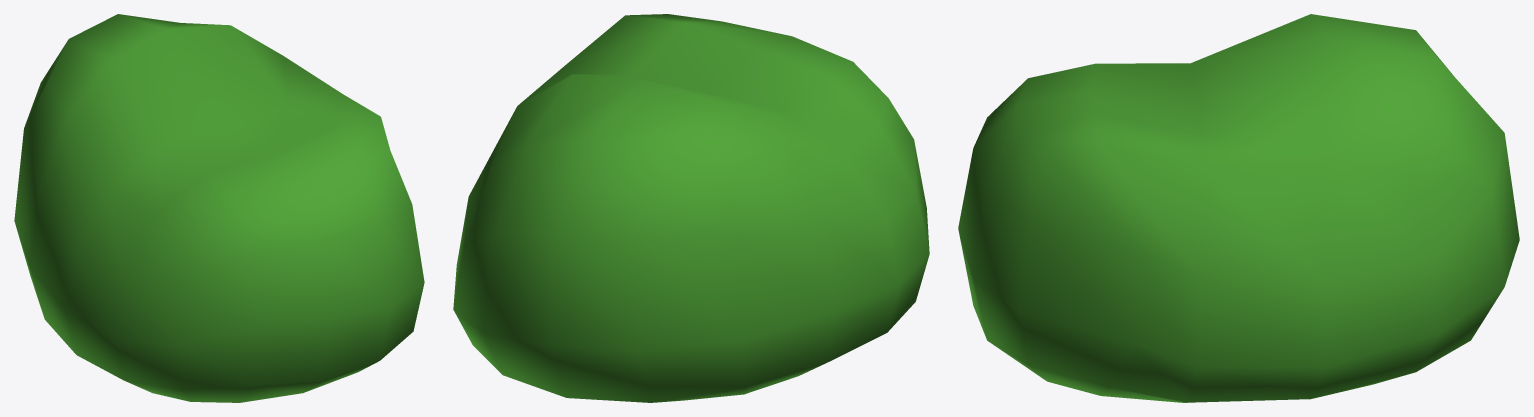
The model's file is Prop_Bush_02.fbx.
3 renders of one model, left to right at view 1: azimuth 30°, elevation 25°; view 2: azimuth 150°, elevation 25°; view 3: azimuth 270°, elevation 25°, orthographic. The views are drawn at different scales.
Parts seen in each view (by area): view 1: Prop_Bush_02__12_; view 2: Prop_Bush_02__12_; view 3: Prop_Bush_02__12_.
Part boxes in pixels (<box>): Prop_Bush_02__12_: <box>14,14,424,402</box>; Prop_Bush_02__12_: <box>453,14,929,402</box>; Prop_Bush_02__12_: <box>958,14,1519,402</box>.
Size of the model in its own units: 348 by 256 by 428.
1 material, 1 textured.
